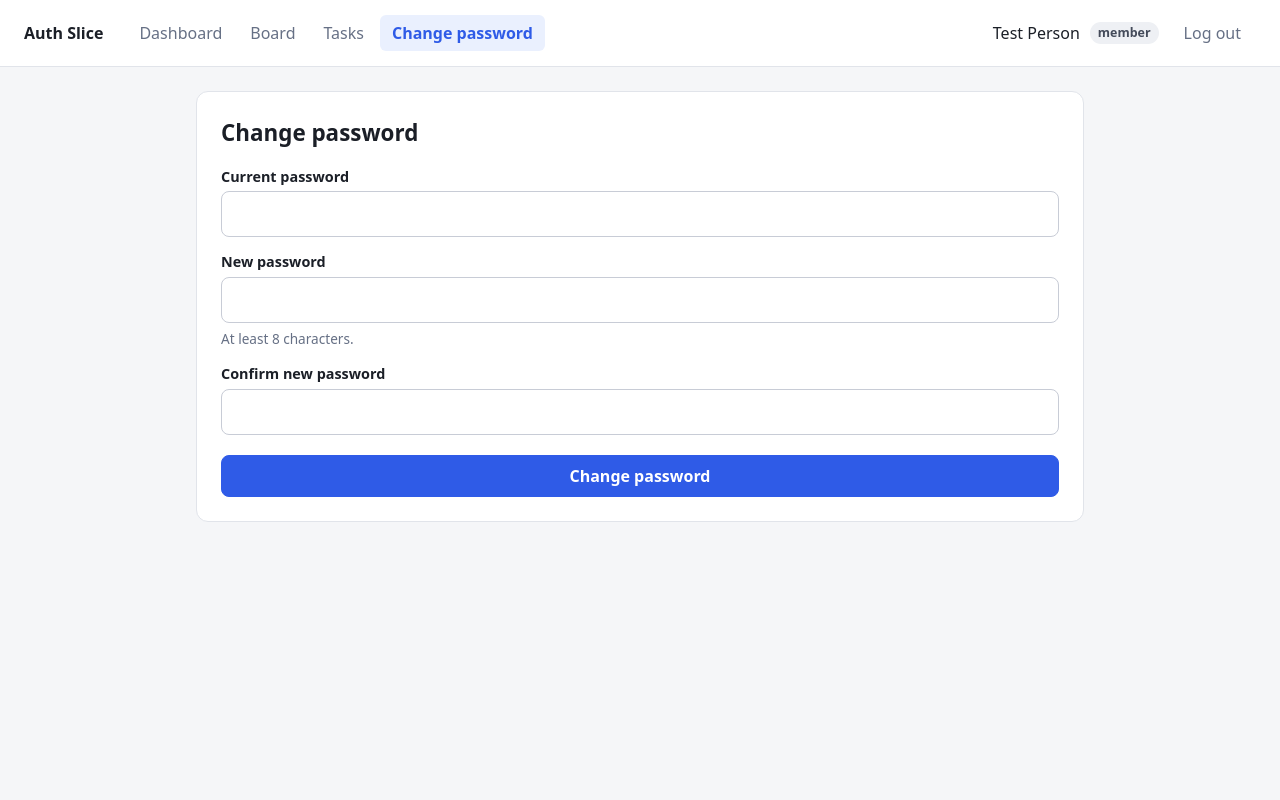
Test: change password › confirms success and clears the fields
Type "old-password-1" into the password field labelled "Current password" at (640, 214), box [221,191,1059,237]
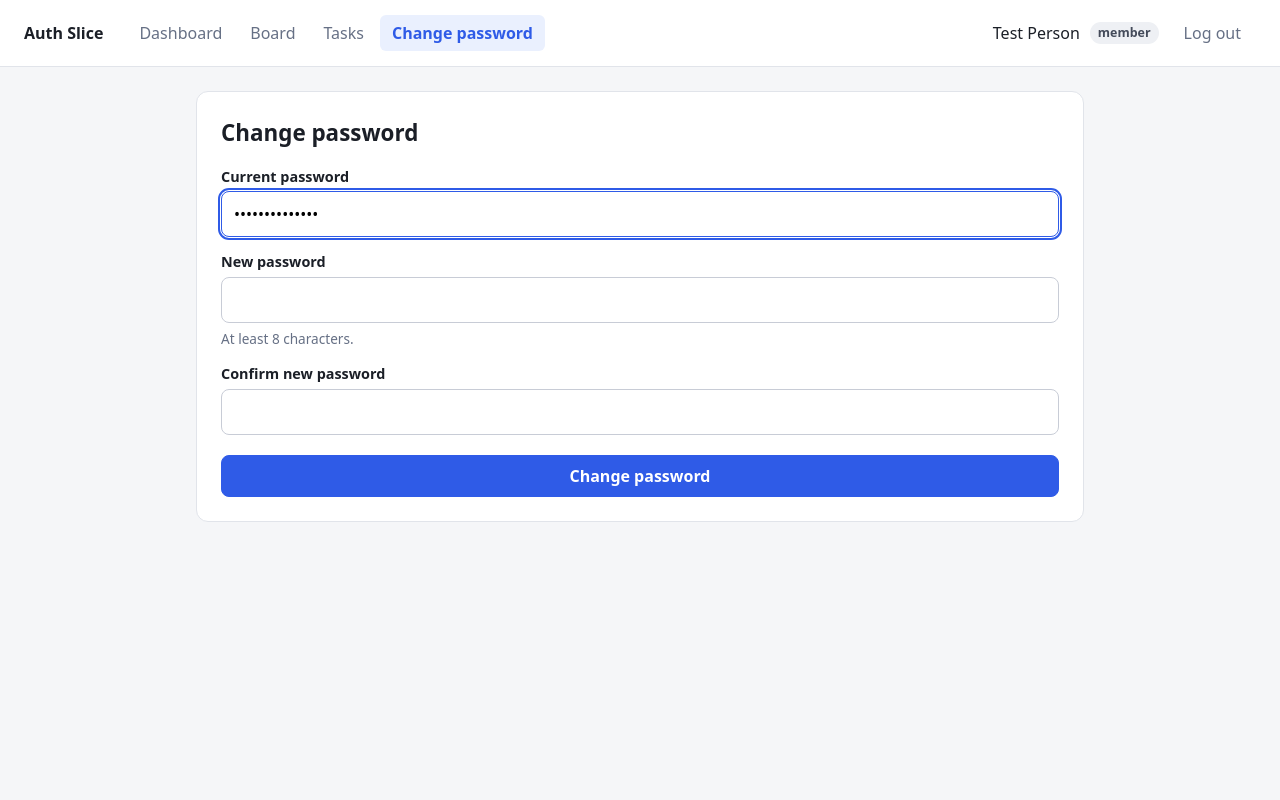
Type "new-password-123" into the password field labelled "New password" at (640, 300), box [221,277,1059,323]
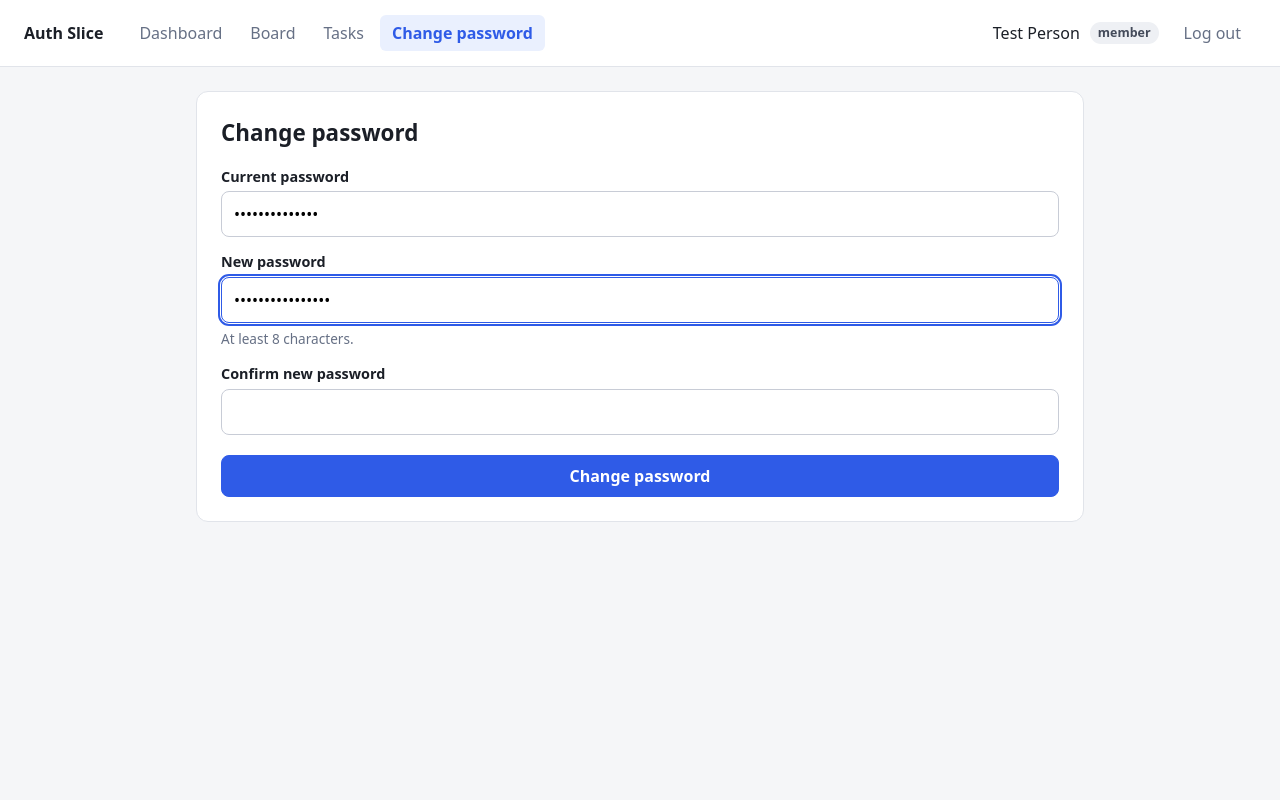
Type "new-password-123" into the password field labelled "Confirm new password" at (640, 412), box [221,389,1059,435]
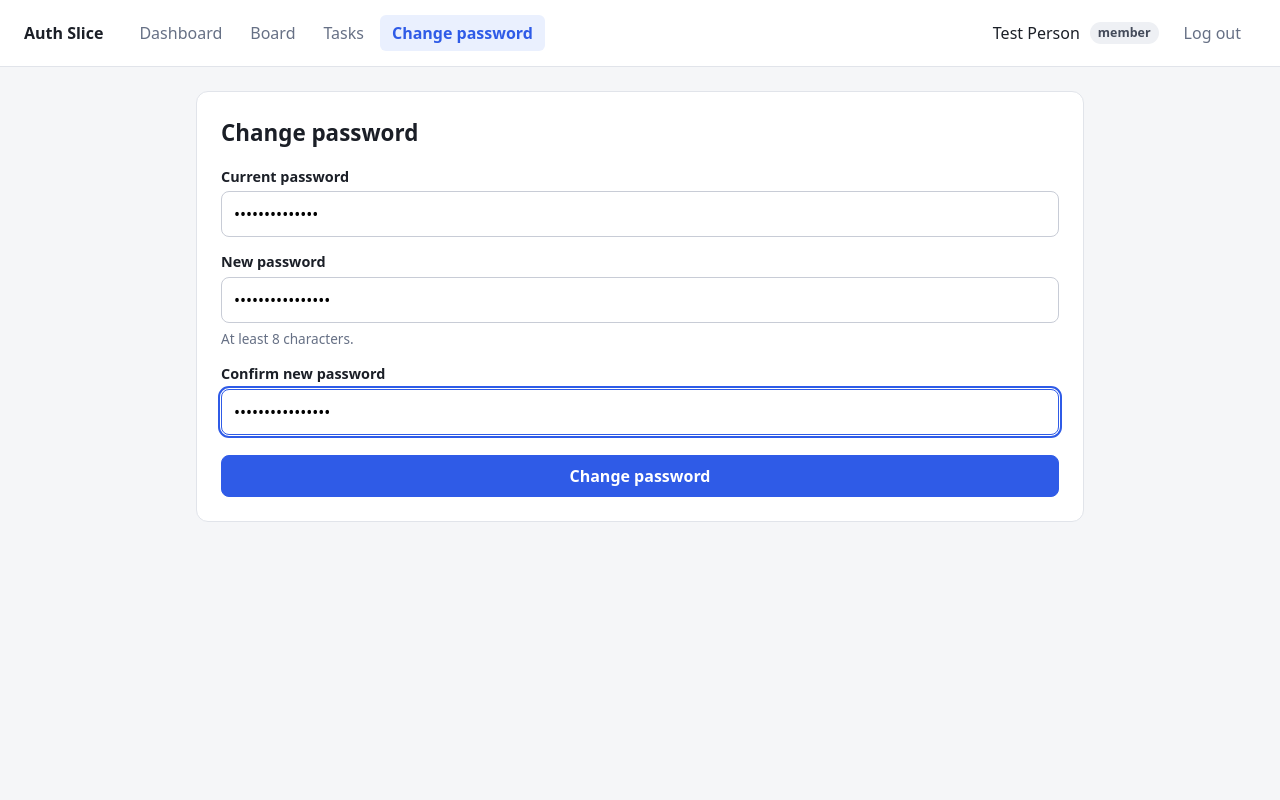
Click the button "Change password" at (640, 476), box [221,455,1059,497]
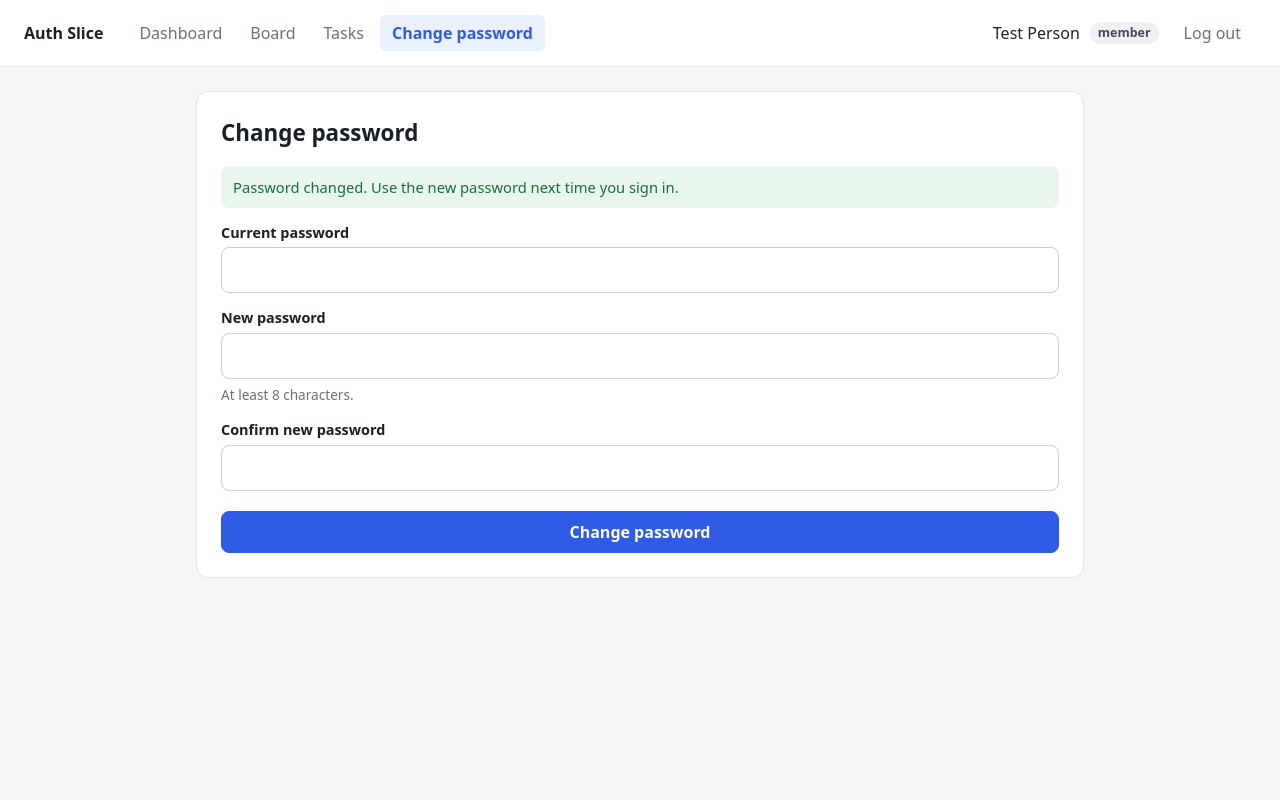
Expected: the message shows "Password changed", [233,177,679,197]
Expected: the password field labelled "Current password" is empty, [221,247,1059,293]
